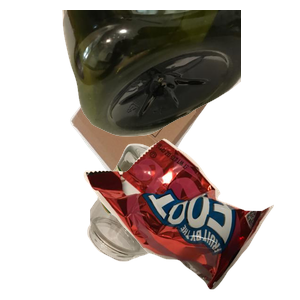cardboard: (67, 16, 295, 196)
glass: (85, 141, 275, 300)
plastic: (60, 10, 300, 139)
trash: (81, 136, 300, 300)
